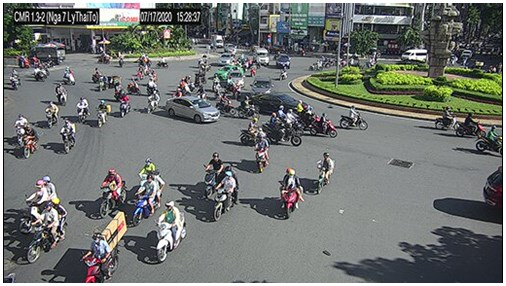xe_hoi: (165, 97, 221, 123), (250, 93, 313, 114), (251, 76, 273, 96), (227, 70, 244, 88), (275, 53, 292, 68), (217, 53, 233, 65)
xe_khach: (400, 50, 428, 61), (254, 49, 268, 66)
xe_may: (83, 211, 127, 284), (27, 197, 66, 264), (16, 175, 58, 233), (156, 202, 188, 263), (132, 169, 164, 226), (212, 167, 238, 222), (99, 169, 126, 217), (281, 168, 303, 220), (205, 152, 226, 199), (476, 124, 506, 156), (267, 121, 302, 148), (240, 118, 271, 147), (316, 152, 335, 195), (457, 112, 487, 139), (338, 105, 369, 131), (309, 112, 337, 138), (435, 105, 462, 131), (60, 118, 77, 154), (23, 125, 40, 160), (137, 158, 155, 191), (285, 108, 305, 135), (255, 135, 269, 173), (215, 93, 237, 117), (236, 97, 259, 119), (13, 115, 29, 146), (96, 99, 112, 128), (264, 113, 285, 133), (45, 101, 59, 129), (77, 97, 90, 123), (146, 91, 160, 115), (119, 93, 132, 118), (55, 82, 68, 106), (125, 77, 141, 95), (114, 81, 128, 101), (179, 76, 192, 97), (146, 78, 161, 96), (10, 68, 21, 90), (64, 65, 76, 85), (193, 69, 207, 86), (33, 66, 46, 84), (92, 67, 105, 83), (277, 65, 289, 81), (225, 76, 236, 93), (156, 56, 169, 69), (309, 59, 322, 72), (318, 55, 331, 67), (363, 56, 375, 68), (212, 76, 220, 89), (251, 62, 257, 78), (118, 53, 125, 66)
xe_tai: (26, 47, 65, 64), (210, 35, 223, 48)
